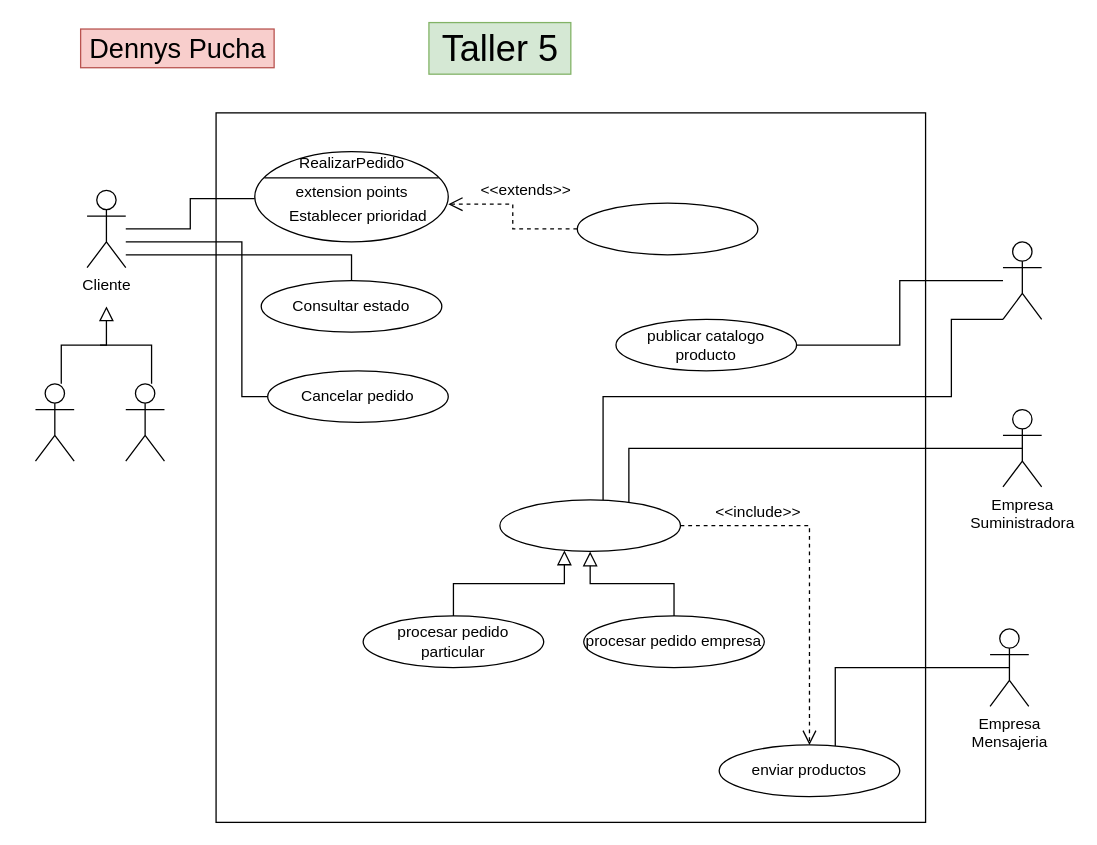
Some shapes in this 1097 by 845 pixel diagram are drawn without their labels. Each missing label, with the centre of its shape:
Empleado: the point at 1022,280
Empresa: the point at 144,421
Particular: the point at 54,421
procesar orden de compra: the point at 589,525
realizar pedido urgente: the point at 667,228
